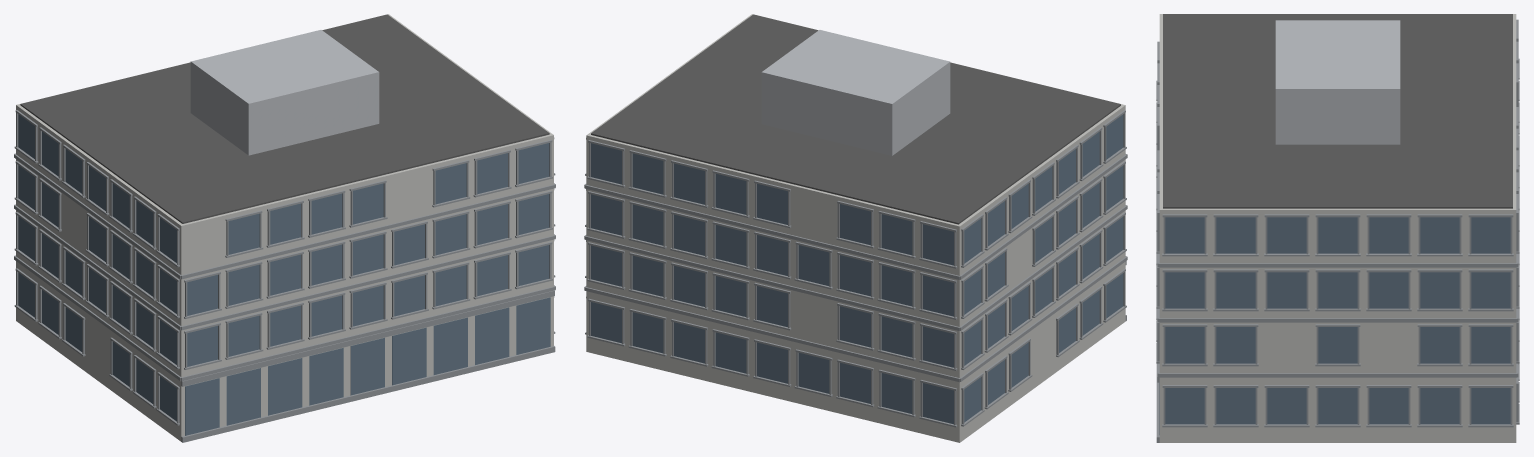
File: SM_Office_4F_B.fbx
3 views of the same model, side by side, from view 1: azimuth 30°, elevation 25°; view 2: azimuth 150°, elevation 25°; view 3: azimuth 270°, elevation 25° (orthographic). The views are drawn at different scales.
Visible parts, largest first — view 1: SM_Office_4F_B_LOD0; view 2: SM_Office_4F_B_LOD0; view 3: SM_Office_4F_B_LOD0.
Part boxes in pixels (bbox=[...]): SM_Office_4F_B_LOD0: bbox=[14, 14, 555, 442]; SM_Office_4F_B_LOD0: bbox=[584, 14, 1127, 442]; SM_Office_4F_B_LOD0: bbox=[1156, 14, 1519, 442].
Size of what is drawn, in the model's own units: 26.36 by 17.95 by 20.36.
